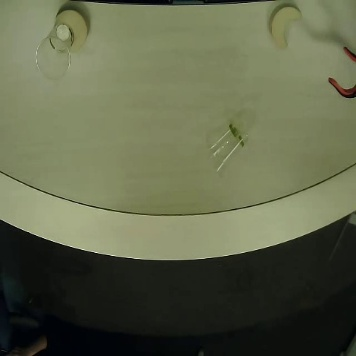empty_cup: (202, 118, 262, 178), (33, 21, 76, 82)
puck: (266, 3, 305, 56), (53, 7, 91, 53)
